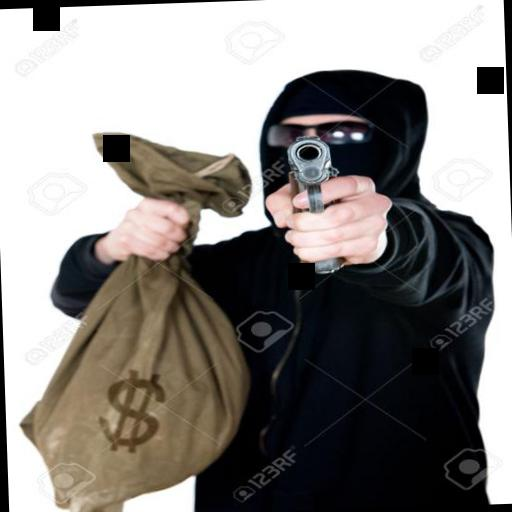Handgun: (274, 131, 344, 272)
